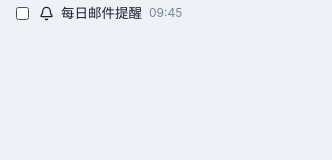
Test case: FailureNotificationToggle › keeps the saved value on write failure and allows retry
The image size is (332, 160).
Click the checkbox labelled "每日邮件提醒 09:45".
click(22, 14)  # box [16,7,29,20]
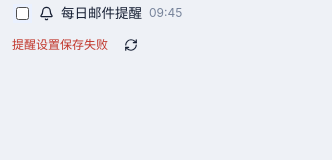
Check: the message reads "提醒设置保存失败", box [12,37,108,52]
Click the button named "重试提醒设置".
click(131, 45)  # box [112,31,150,59]
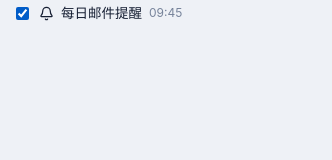
Check: the checkbox labelled "每日邮件提醒 09:45" is checked, box [16,7,29,20]
Check: the message "提醒设置保存失败" is gone
